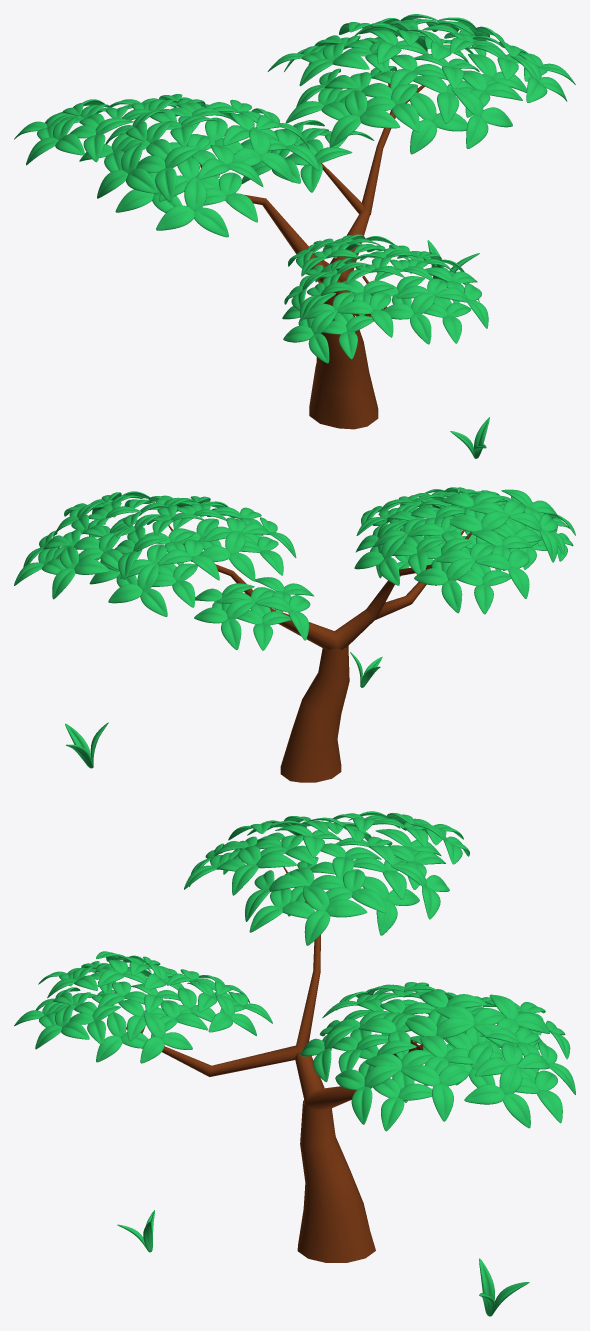
Rendered from tree.glb.
3 views of the same model, one above another, from view 1: azimuth 30°, elevation 25°; view 2: azimuth 150°, elevation 25°; view 3: azimuth 270°, elevation 25° (orthographic). The views are drawn at different scales.
Parts seen in each view (by area): view 1: Plane; view 2: Plane; view 3: Plane.
Part boxes in pixels (<box>): Plane: <box>14,14,575,458</box>; Plane: <box>14,487,575,782</box>; Plane: <box>14,811,575,1316</box>.
Bounding box in the file's own units: 9.46 × 5.76 × 8.72.
